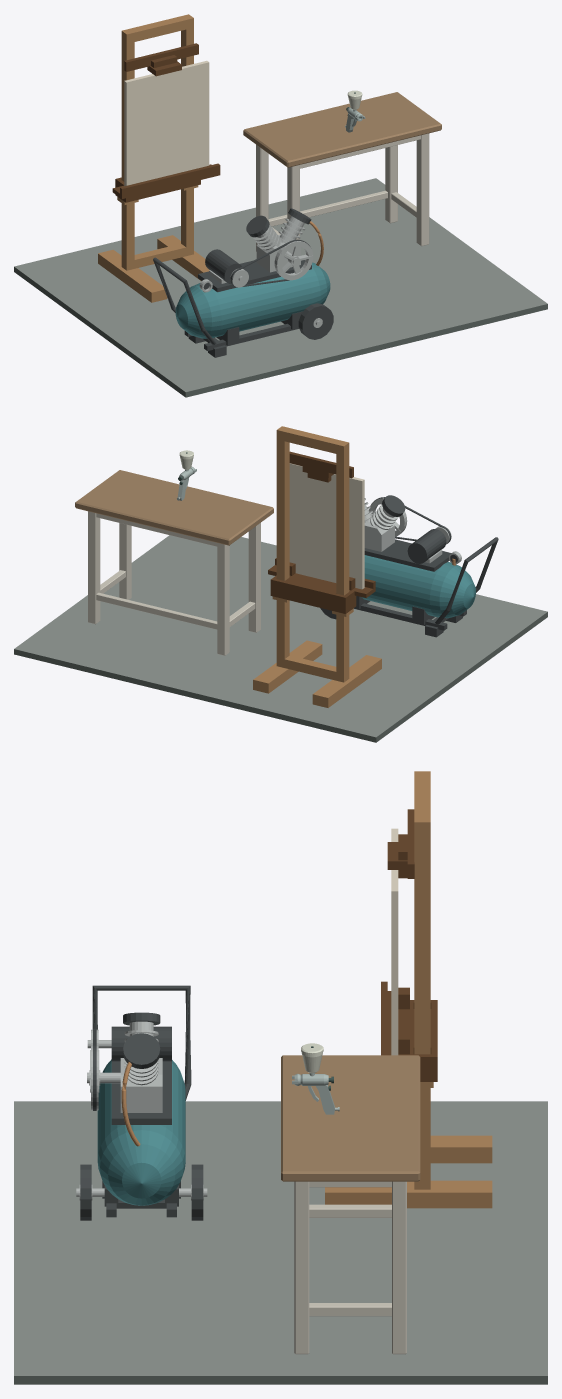
3 renders of one model, top to bottom at view 1: azimuth 30°, elevation 25°; view 2: azimuth 150°, elevation 25°; view 3: azimuth 270°, elevation 25°, orthographic. The views are drawn at different scales.
Parts seen in each view (by area): view 1: SCENE_ONLY__DisplayFloor, easel__OriginalThickBlankBoard, table__Complete work surface, compressor__WholeDomedHorizontalTankExterior, easel__LeftParallelGuideRailWithIntegralShoulder, easel__ContinuousTwinSlotCarriageWithLedgeLip, table__Worktable leg.002, easel__LeftCompleteGroundRunner, easel__RightParallelGuideRailWithIntegralShoulder, easel__ContinuousUpperFixedCapAndBackPad, compressor__WholeFrontTireNear, table__Worktable leg.003 (+14 smaller); view 2: SCENE_ONLY__DisplayFloor, table__Complete work surface, easel__OriginalThickBlankBoard, compressor__WholeDomedHorizontalTankExterior, easel__LeftParallelGuideRailWithIntegralShoulder, easel__RightParallelGuideRailWithIntegralShoulder, easel__ContinuousTwinSlotCarriageWithLedgeLip, easel__LeftCompleteGroundRunner, table__Worktable leg.001, table__Worktable leg.003, table__Worktable leg, easel__RightCompleteGroundRunner (+12 smaller); view 3: SCENE_ONLY__DisplayFloor, table__Complete work surface, compressor__WholeDomedHorizontalTankExterior, easel__RightParallelGuideRailWithIntegralShoulder, easel__RightCompleteGroundRunner, easel__ContinuousTwinSlotCarriageWithLedgeLip, table__Worktable leg.002, table__Worktable leg.003, easel__LeftCompleteGroundRunner, compressor__WholeUpperMountingBed, easel__OriginalThickBlankBoard, compressor__WholeOpenPushHandle (+7 smaller).
Part boxes in pixels (<box>): SCENE_ONLY__DisplayFloor: <box>14,178,547,397</box>; easel__OriginalThickBlankBoard: <box>124,60,209,186</box>; table__Complete work surface: <box>243,92,441,167</box>; compressor__WholeDomedHorizontalTankExterior: <box>175,262,330,338</box>; easel__LeftParallelGuideRailWithIntegralShoulder: <box>117,29,138,270</box>; easel__ContinuousTwinSlotCarriageWithLedgeLip: <box>112,163,220,202</box>; table__Worktable leg.002: <box>416,133,429,246</box>; easel__LeftCompleteGroundRunner: <box>98,249,167,302</box>; easel__RightParallelGuideRailWithIntegralShoulder: <box>181,14,198,255</box>; easel__ContinuousUpperFixedCapAndBackPad: <box>124,43,198,76</box>; compressor__WholeFrontTireNear: <box>298,303,333,339</box>; table__Worktable leg.003: <box>385,145,397,223</box>; SCENE_ONLY__DisplayFloor: <box>14,535,547,742</box>; table__Complete work surface: <box>75,470,273,545</box>; easel__OriginalThickBlankBoard: <box>289,463,364,589</box>; compressor__WholeDomedHorizontalTankExterior: <box>362,555,475,618</box>; easel__LeftParallelGuideRailWithIntegralShoulder: <box>332,440,353,682</box>; easel__RightParallelGuideRailWithIntegralShoulder: <box>272,426,289,667</box>; easel__ContinuousTwinSlotCarriageWithLedgeLip: <box>268,558,375,613</box>; easel__LeftCompleteGroundRunner: <box>312,655,381,707</box>; table__Worktable leg.001: <box>217,543,229,655</box>; table__Worktable leg.003: <box>88,511,100,624</box>; table__Worktable leg: <box>248,523,260,632</box>; easel__RightCompleteGroundRunner: <box>253,640,322,693</box>; SCENE_ONLY__DisplayFloor: <box>14,1101,547,1384</box>; table__Complete work surface: <box>281,1055,420,1181</box>; compressor__WholeDomedHorizontalTankExterior: <box>97,1059,185,1205</box>; easel__RightParallelGuideRailWithIntegralShoulder: <box>414,816,433,1189</box>; easel__RightCompleteGroundRunner: <box>325,1180,492,1208</box>; easel__ContinuousTwinSlotCarriageWithLedgeLip: <box>381,981,437,1081</box>; table__Worktable leg.002: <box>294,1181,309,1354</box>; table__Worktable leg.003: <box>392,1181,406,1354</box>; easel__LeftCompleteGroundRunner: <box>430,1135,492,1163</box>; compressor__WholeUpperMountingBed: <box>111,1061,171,1124</box>; easel__OriginalThickBlankBoard: <box>391,828,398,1055</box>; compressor__WholeOpenPushHandle: <box>92,985,191,1100</box>.
Size of the model in its own units: 2.8 by 1.86 by 2.3.
